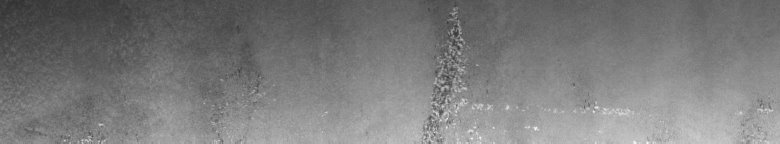hc: (422, 4, 630, 136)
